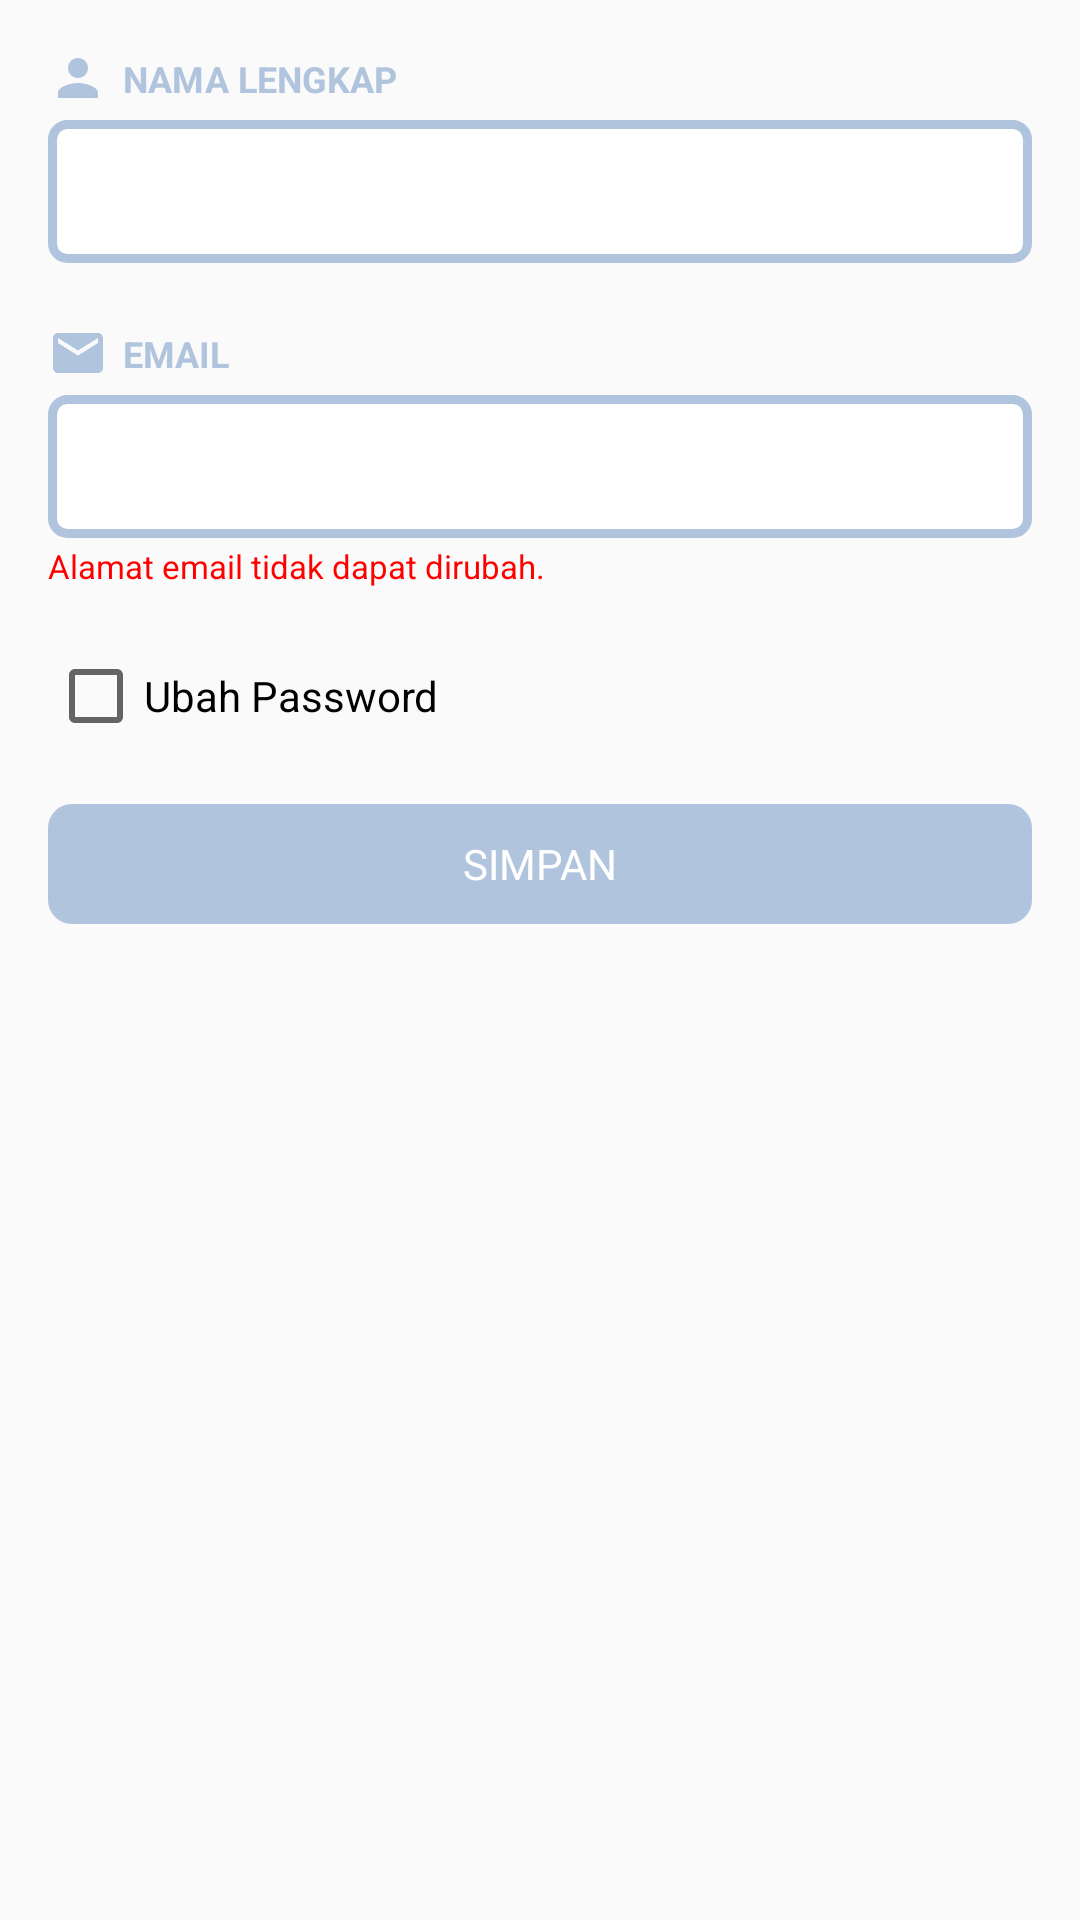

Screen size 1080×1920. Icon name, then its center in pixels as (x=x, y=y):
fullname: (x=78, y=78)
